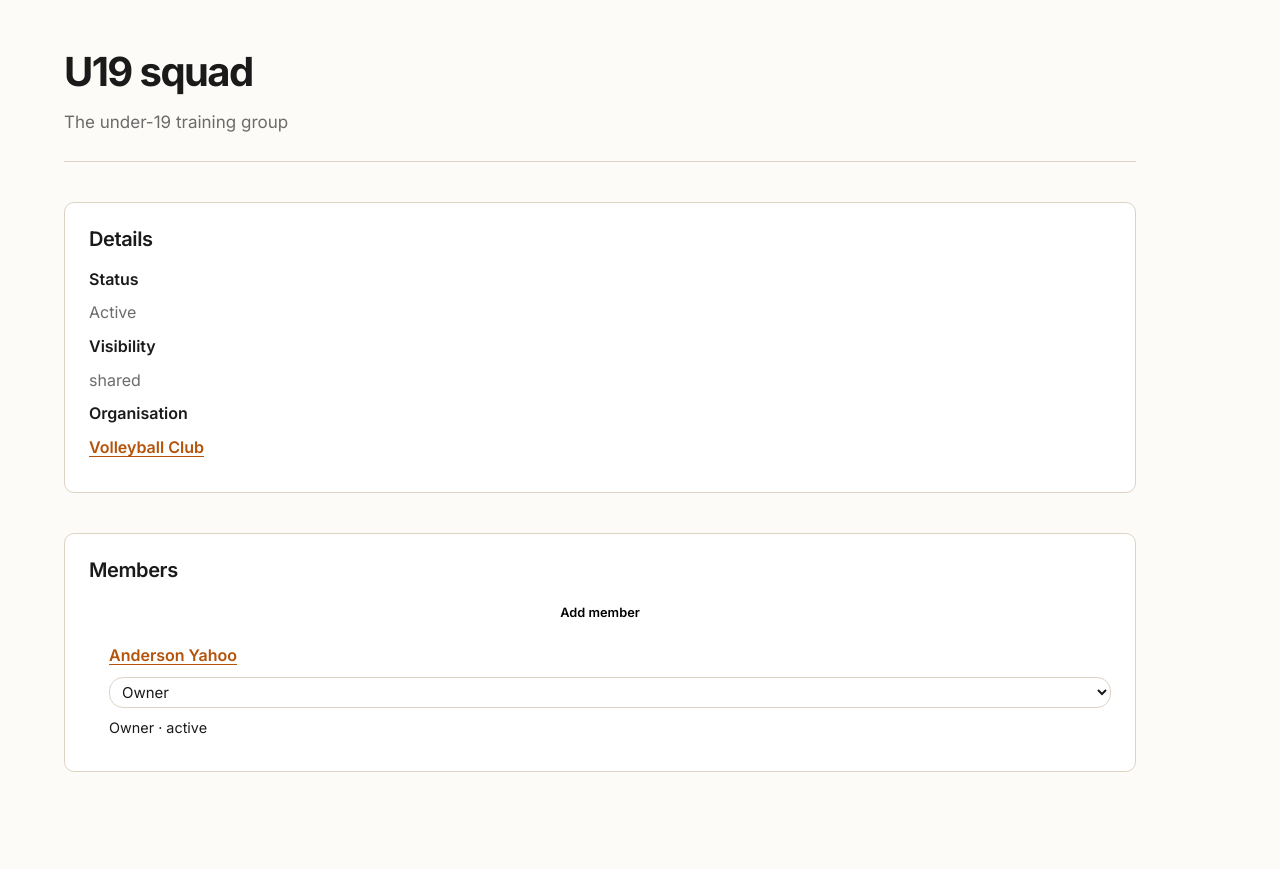
it: GroupDetail members › only offers candidates who belong to the group's organisation
Expected: the link "Anderson Yahoo" is shown, [109, 646, 237, 666]
Step 1. Click the button "Add member" → (600, 613), box [89, 598, 1111, 628]
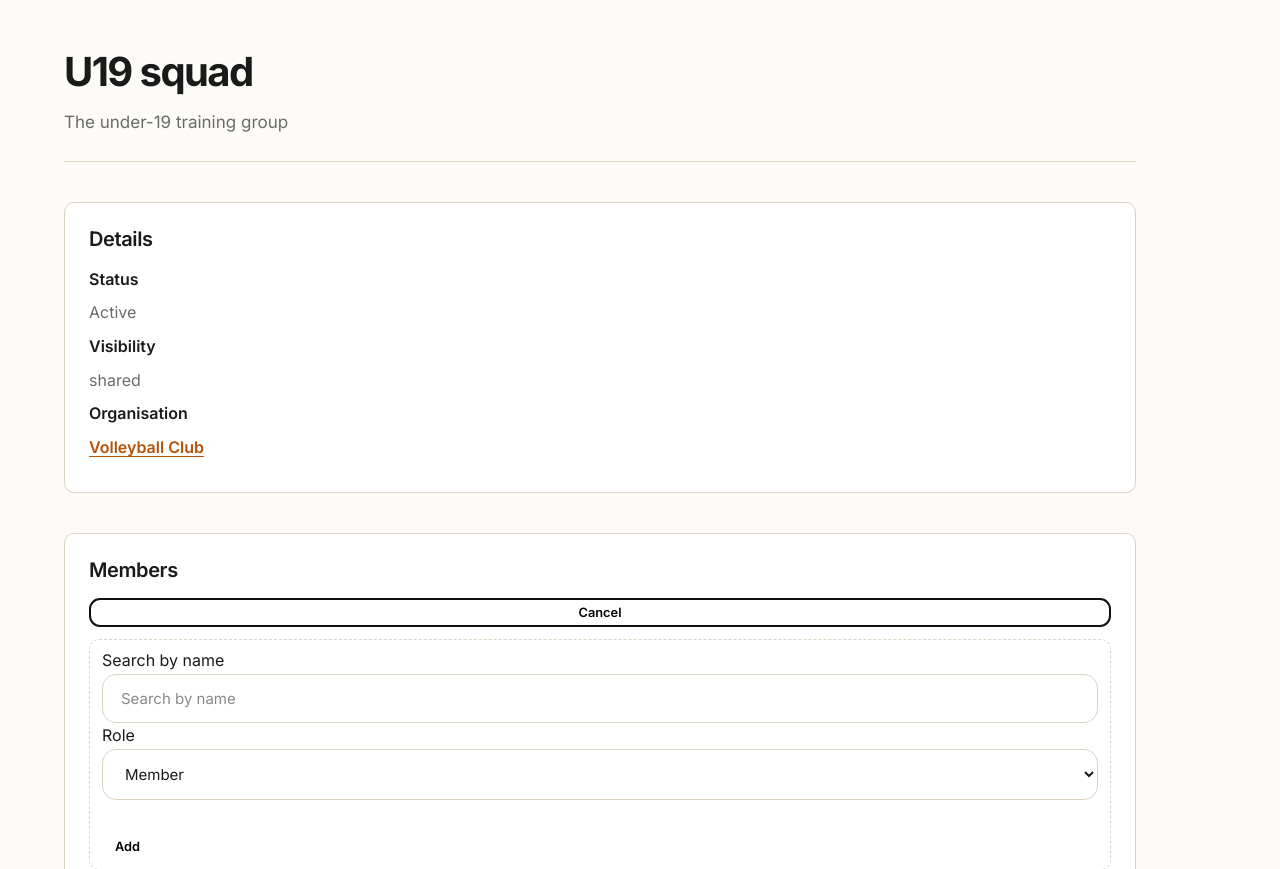
Step 2. Type "bru" into the field labelled "Search by name" → (600, 698), box [102, 674, 1098, 723]
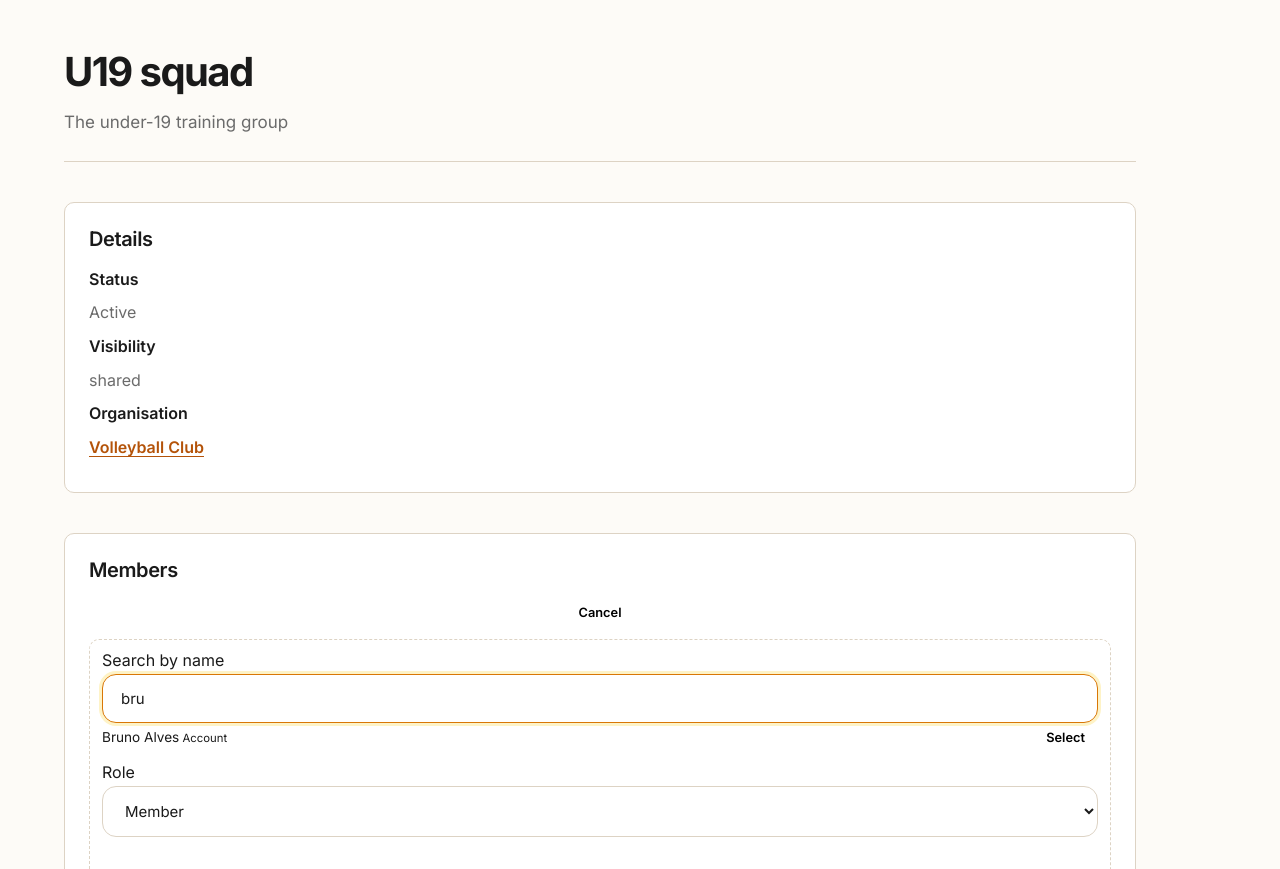
Now the text "Bruno Alves" is shown, box [102, 729, 179, 745]
